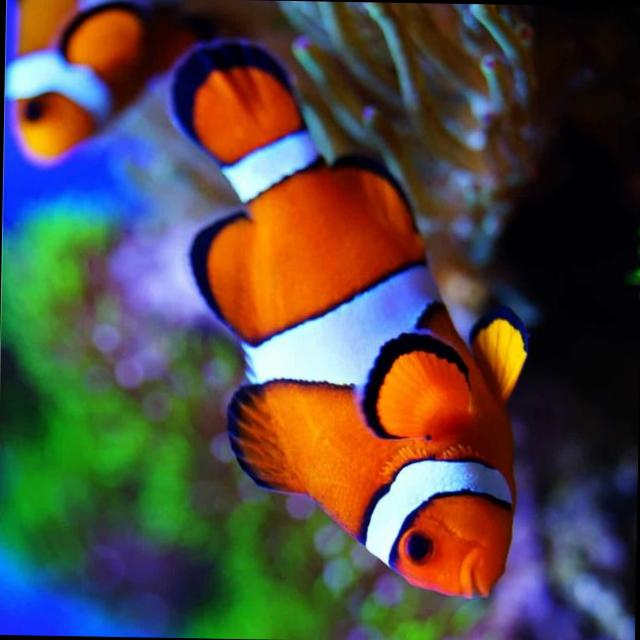ClownFish: (158, 37, 540, 596), (6, 0, 188, 162)
